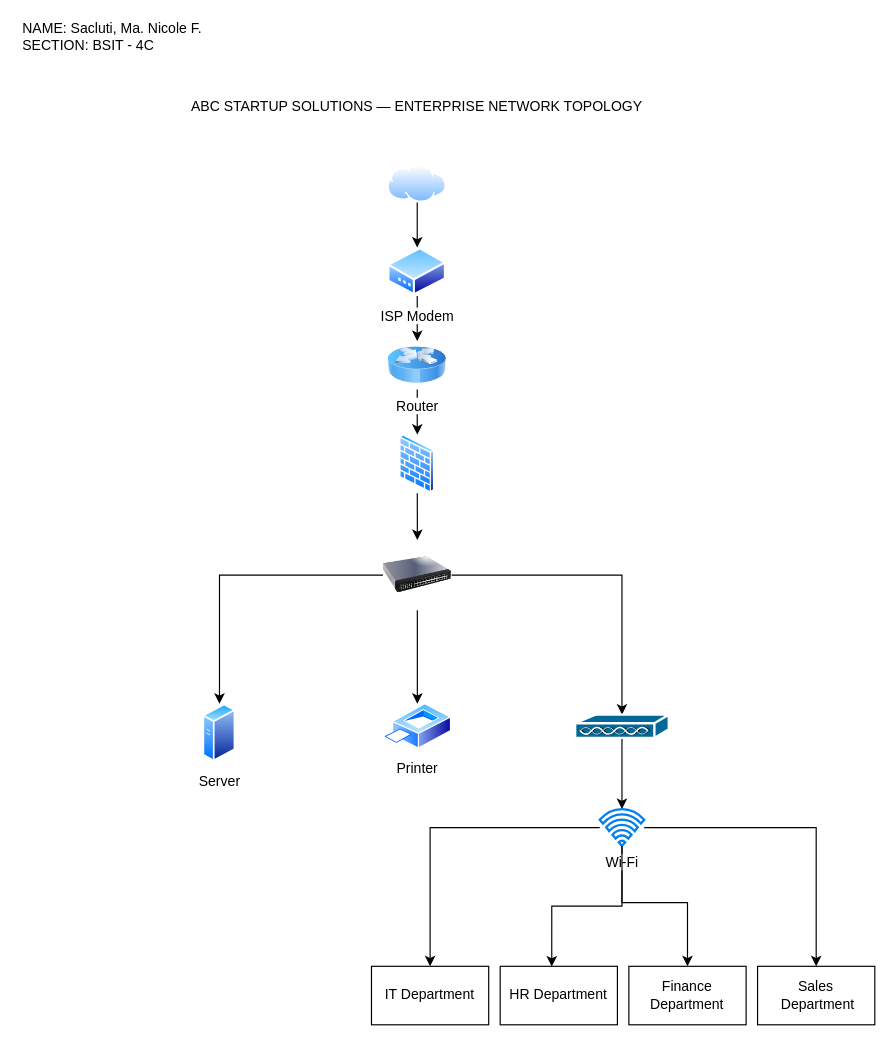
This 895x1046 diagram has some shape labels left out. Here are the shapes that lost their labels. From the top down, the centre of each, then its label:
At point 416,183: "Internet".
At point 417,463: "Firewall".
At point 416,574: "Switch".
At point 621,726: "Access Point".
